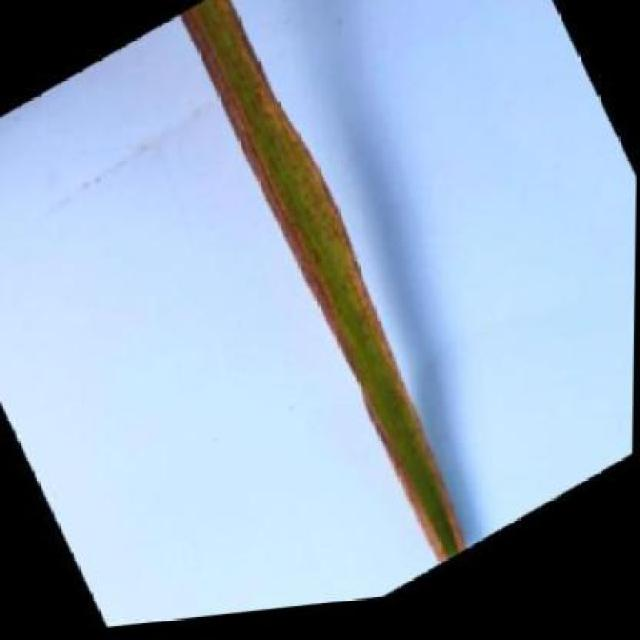Rice False Smut: (170, 0, 501, 597)
